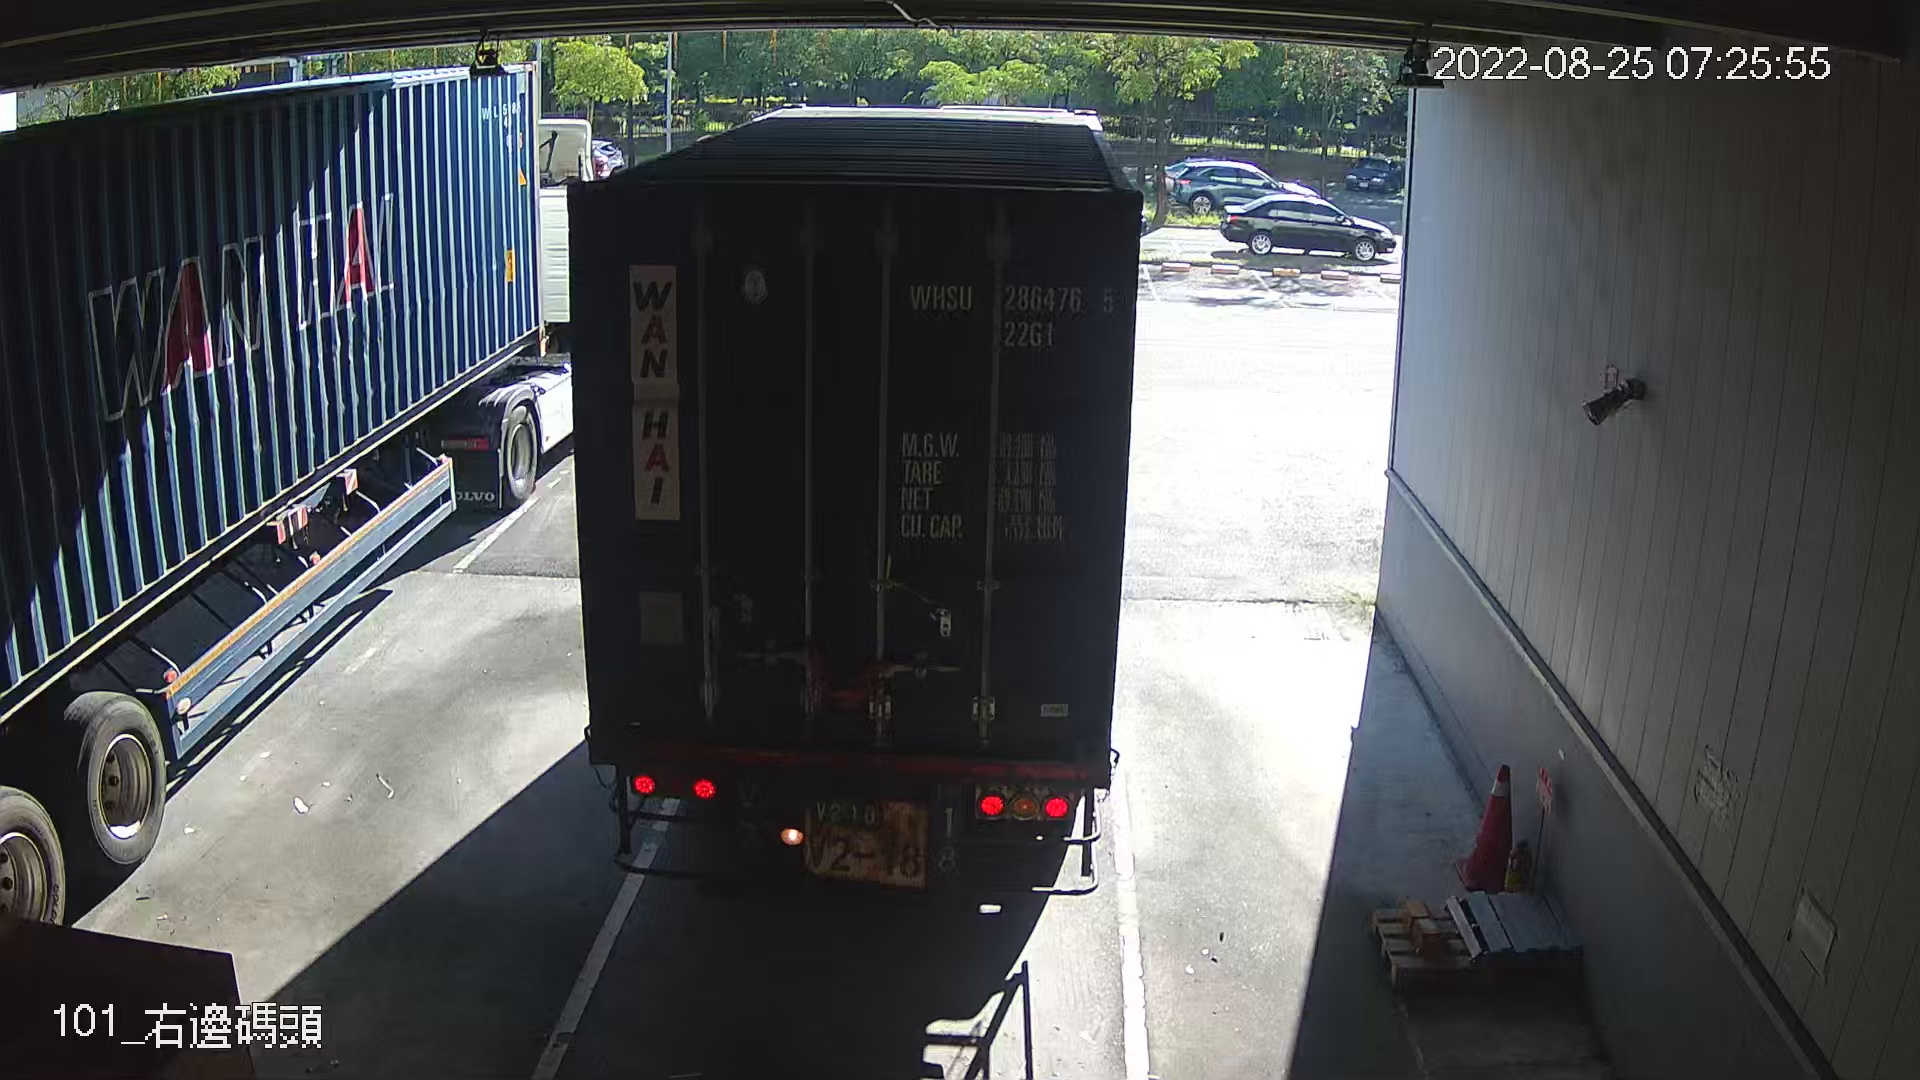container: (891, 269, 1127, 360)
